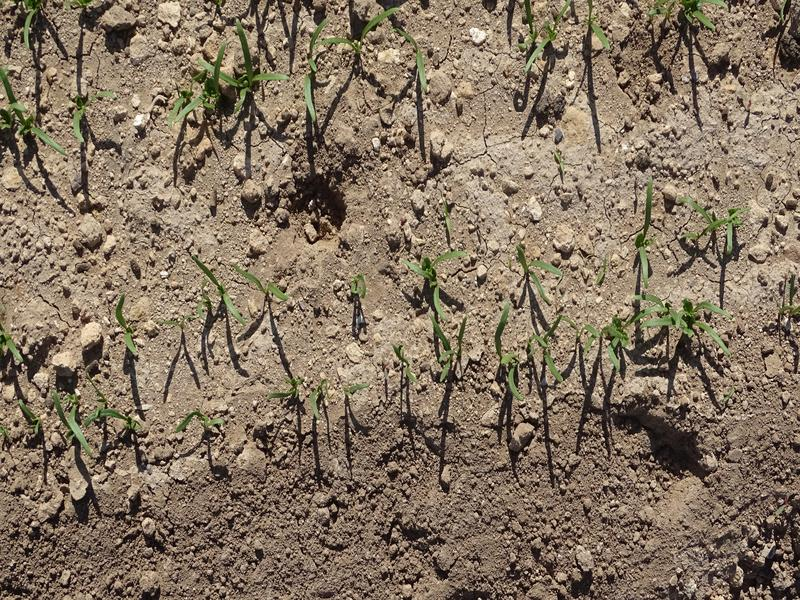Espinaca: (171, 22, 280, 127), (580, 297, 726, 375), (183, 256, 284, 323), (489, 306, 564, 395), (414, 252, 469, 373), (6, 93, 110, 151), (49, 394, 133, 454), (521, 22, 609, 66), (326, 9, 403, 58), (695, 194, 747, 257), (516, 247, 564, 303), (284, 377, 338, 424), (397, 37, 434, 94), (638, 187, 656, 284), (664, 1, 722, 29), (114, 297, 137, 359), (186, 413, 218, 435)
